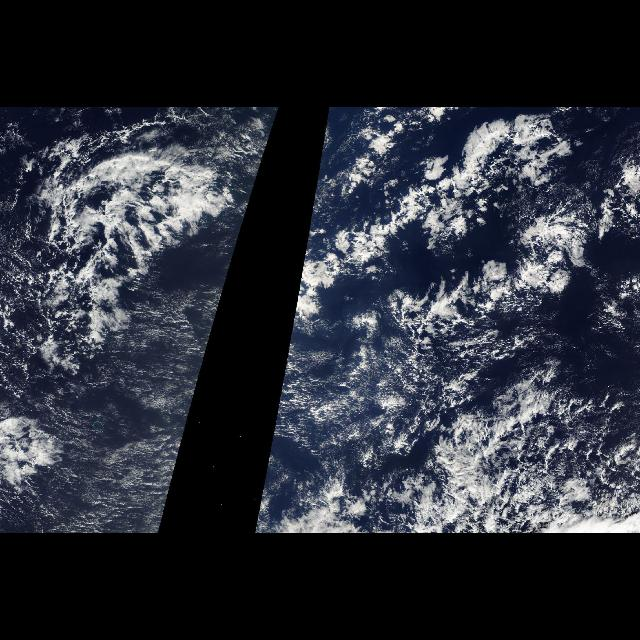Gravel: (347, 328, 638, 530), (3, 117, 165, 386)
